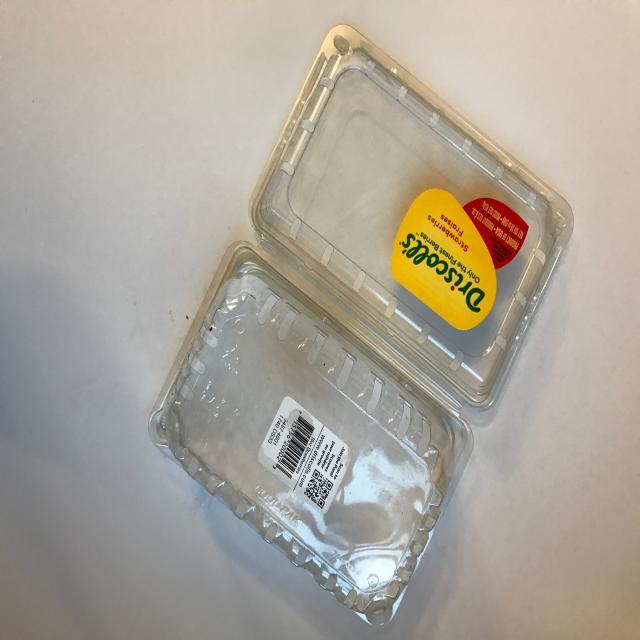plastic: (147, 21, 577, 624)
